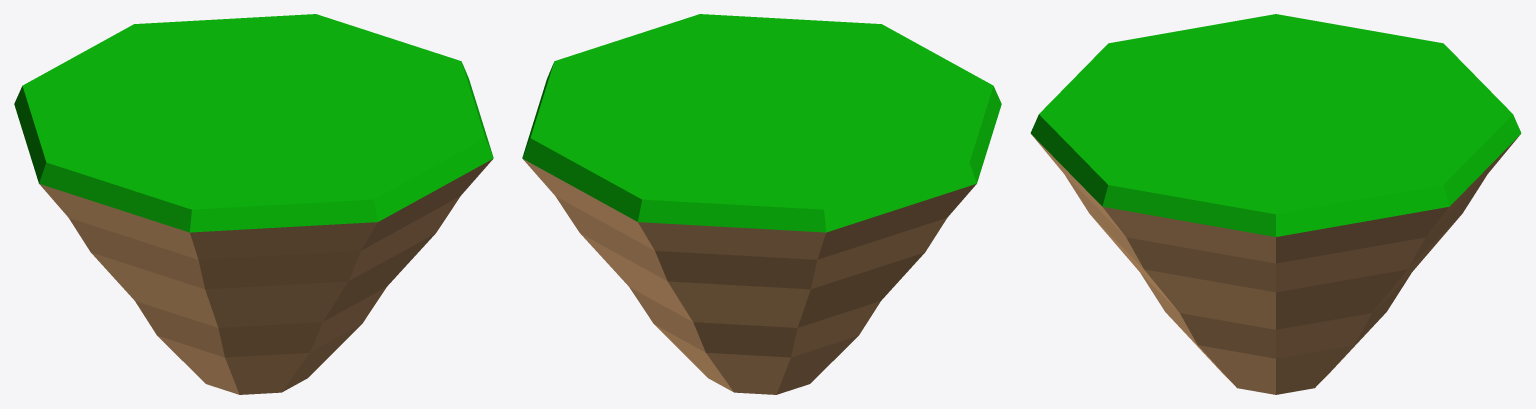
The model's file is island_small.glb.
3 renders of one model, left to right at view 1: azimuth 30°, elevation 25°; view 2: azimuth 150°, elevation 25°; view 3: azimuth 270°, elevation 25°, orthographic.
Parts seen in each view (by area): view 1: IslandSmall; view 2: IslandSmall; view 3: IslandSmall.
Part boxes in pixels (x1,y1,x2,y2): IslandSmall: (14,14,493,394); IslandSmall: (522,14,1001,394); IslandSmall: (1030,14,1521,394).
Size of the model in its own units: 10.36 by 5.99 by 10.36.
Materials: 1 (1 with a texture image).
